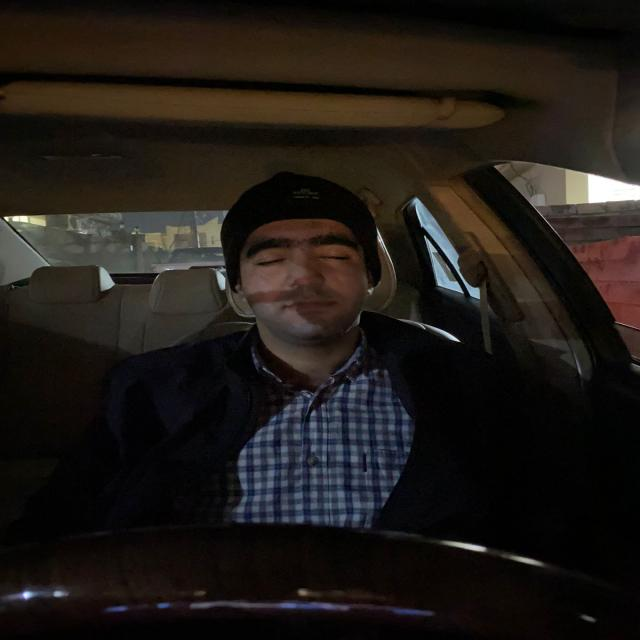drowsy: (210, 172, 401, 364)
